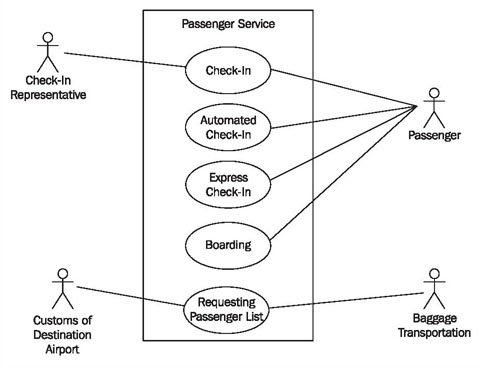actor: (422, 267, 447, 311), (34, 31, 59, 73), (51, 268, 74, 310), (423, 88, 447, 128)
association: (270, 108, 415, 238), (269, 106, 416, 180), (271, 67, 417, 106), (272, 106, 415, 129), (269, 292, 425, 309), (75, 285, 183, 306), (64, 50, 186, 67)
text: (30, 314, 95, 358), (8, 73, 90, 102), (397, 312, 472, 341), (190, 297, 263, 323), (199, 112, 256, 139), (179, 17, 278, 31), (202, 171, 254, 197), (407, 129, 464, 144), (203, 63, 253, 79), (202, 237, 254, 252)
use_case: (185, 46, 271, 96), (184, 222, 271, 270), (185, 103, 271, 151), (184, 286, 270, 334), (186, 160, 271, 208)
